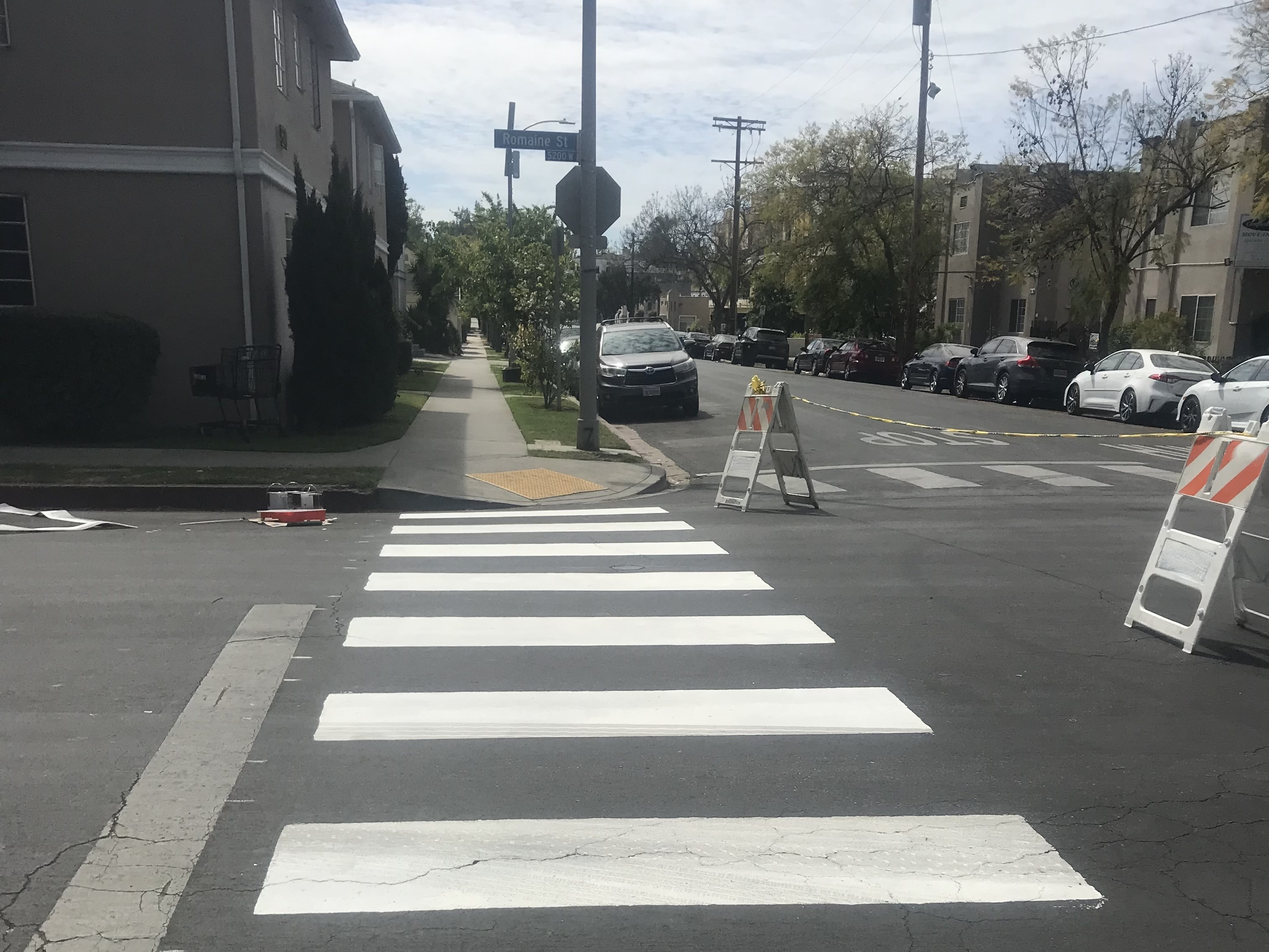Car: (579, 313, 706, 421), (1064, 327, 1188, 431), (953, 330, 1070, 406), (1178, 341, 1266, 440)
Crosswalk: (280, 480, 1089, 952)
Tree: (264, 149, 414, 432)
